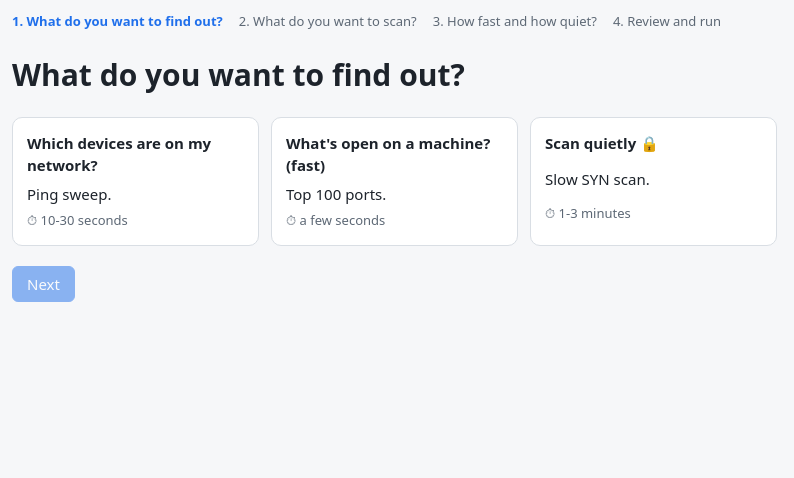
Test: invalid target blocks the next step
Step 1. Click the radio button labelled "What's open on a machine? (fast)" → (394, 181), box [271,117,518,246]
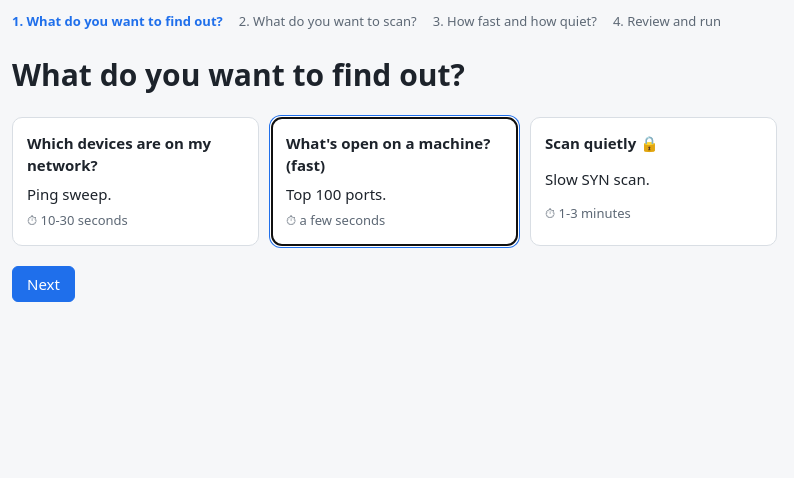
Now the button "Next" is enabled
Step 2. Click the button "Next" → (43, 284), box [12,266,75,302]
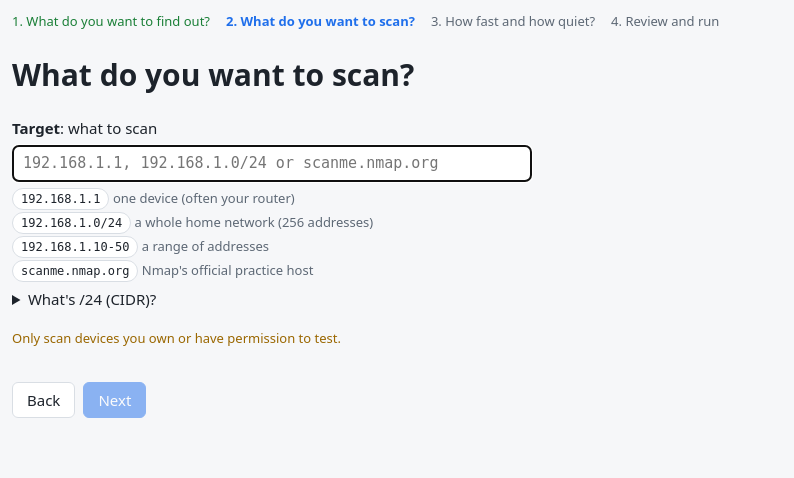
Step 3. Type "x" into the field labelled "Target: what to scan" → (272, 163), box [12,145,532,182]
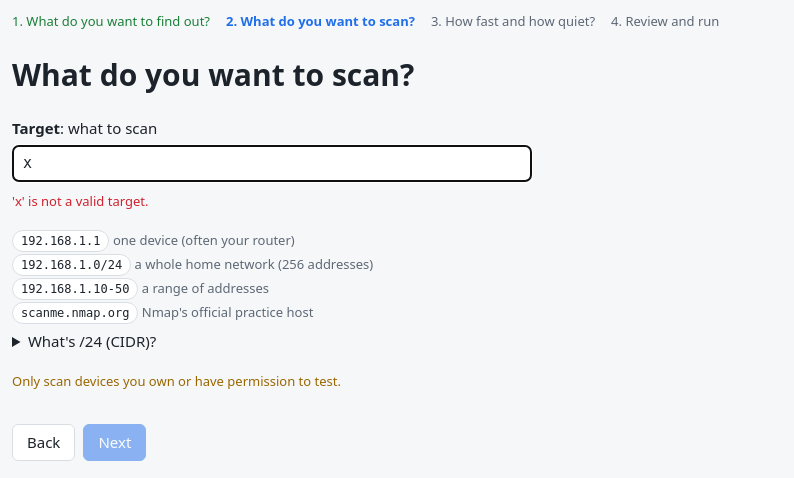
Now the button "Next" is disabled, box [83,424,146,461]
Now the text "'x' is not a valid target." is shown, box [12,192,148,210]
